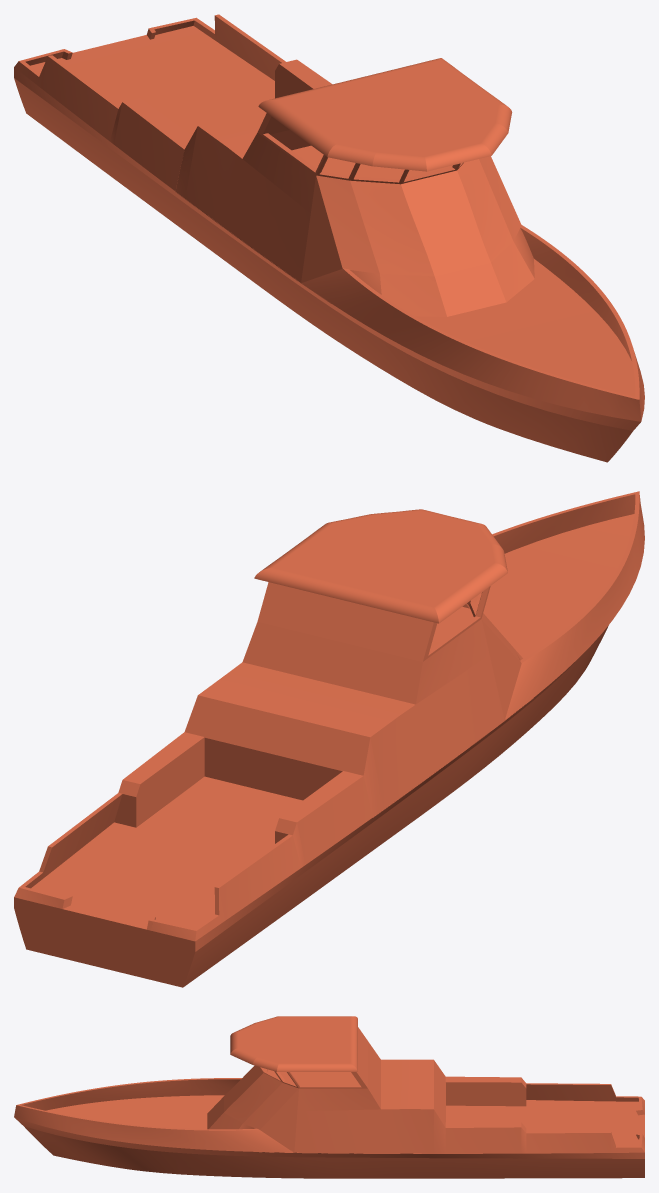
The model's file is Sin_nombre.glb.
3 views of the same model, one above another, from view 1: azimuth 30°, elevation 25°; view 2: azimuth 150°, elevation 25°; view 3: azimuth 270°, elevation 25° (orthographic). The views are drawn at different scales.
Parts seen in each view (by area): view 1: Casco_corte_completo; view 2: Casco_corte_completo; view 3: Casco_corte_completo.
Boxes of the visible parts, x1,y1,x2,y2 form: Casco_corte_completo: (14, 14, 644, 462); Casco_corte_completo: (14, 491, 644, 987); Casco_corte_completo: (14, 1016, 644, 1178).
Bounding box in the file's own units: 45.7 × 42.28 × 209.
